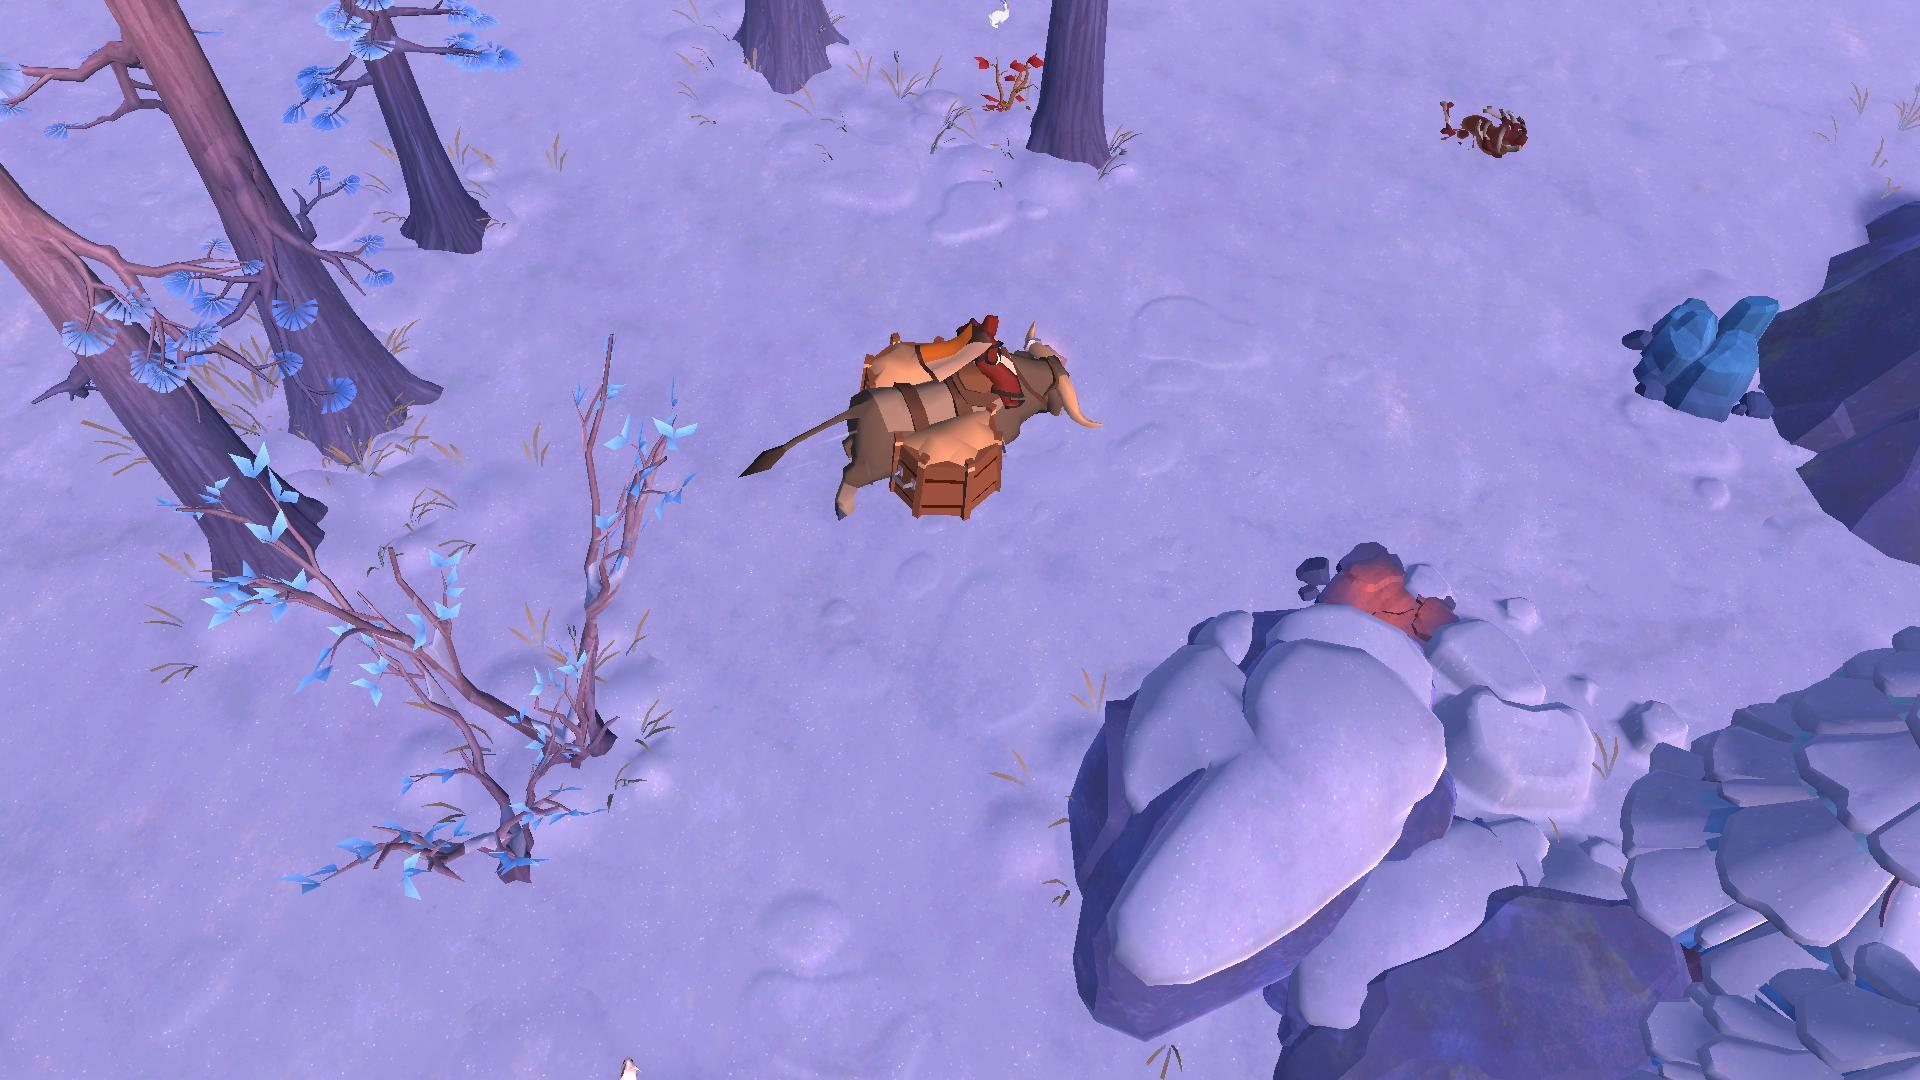rock_t4: (1633, 287, 1782, 423)
